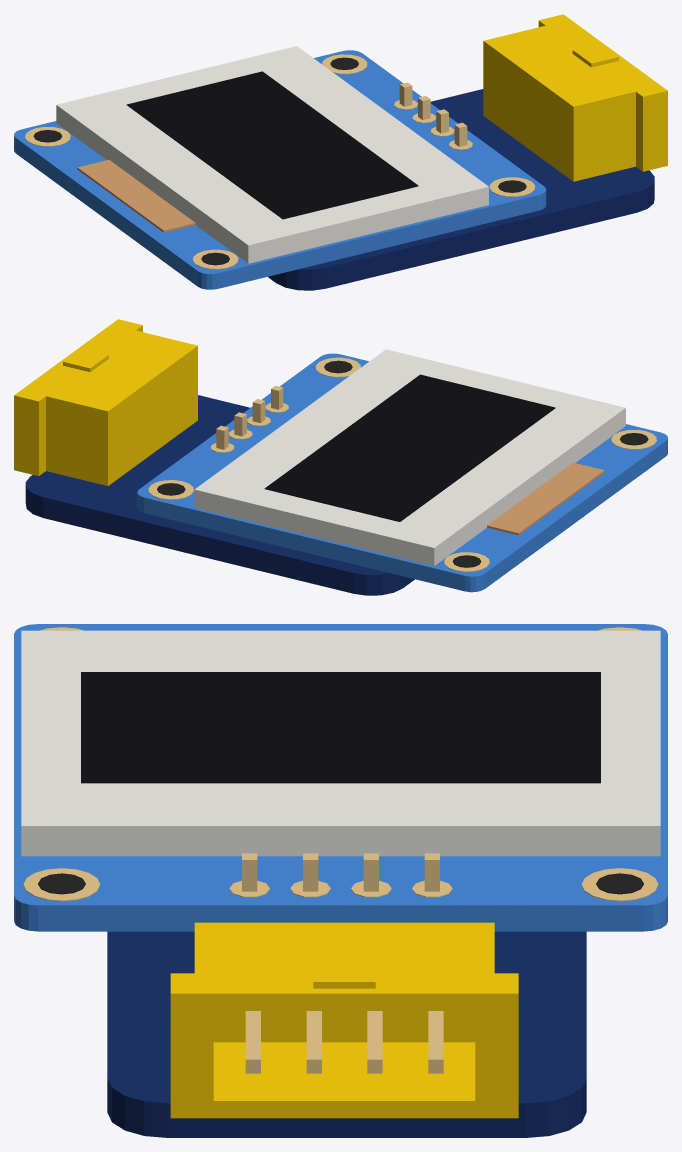
The model's file is oled.glb.
The picture shows the model from 3 angles, top to bottom: view 1: azimuth 30°, elevation 25°; view 2: azimuth 150°, elevation 25°; view 3: azimuth 270°, elevation 25°; orthographic projection. The views are drawn at different scales.
Visible parts, largest first — view 1: oled_glass, oled_xh, oled_screen, oled_module, oled_pcb, oled_flex, oled_module_pads, oled_header_pins, oled_module_holes; view 2: oled_glass, oled_xh, oled_screen, oled_module, oled_pcb, oled_flex, oled_module_pads, oled_module_holes, oled_header_pins; view 3: oled_glass, oled_xh, oled_screen, oled_module, oled_pcb, oled_module_pads, oled, oled_header_pins, oled_module_holes.
Boxes of the visible parts, x1,y1,x2,y2 form: oled_glass: (56, 46, 488, 263); oled_xh: (483, 14, 667, 181); oled_screen: (126, 71, 418, 219); oled_module: (14, 50, 546, 289); oled_pcb: (268, 89, 654, 290); oled_flex: (77, 160, 195, 232); oled_module_pads: (25, 54, 535, 269); oled_header_pins: (399, 82, 467, 146); oled_module_holes: (33, 57, 526, 265); oled_glass: (194, 349, 625, 565); oled_xh: (14, 319, 197, 485); oled_screen: (264, 374, 555, 521); oled_module: (137, 353, 667, 592); oled_pcb: (25, 395, 414, 595); oled_flex: (487, 462, 604, 535); oled_module_pads: (148, 357, 656, 571); oled_module_holes: (157, 360, 648, 567); oled_header_pins: (216, 385, 283, 449); oled_glass: (21, 630, 660, 856); oled_xh: (170, 922, 518, 1118); oled_screen: (81, 672, 600, 783); oled_module: (14, 624, 667, 931); oled_pcb: (107, 931, 586, 1137); oled_module_pads: (23, 627, 658, 901); oled: (245, 1011, 443, 1073); oled_header_pins: (242, 853, 439, 891); oled_module_holes: (38, 873, 643, 894).
Bounding box in the file's own units: 0.0409 × 0.00765 × 0.0273.
